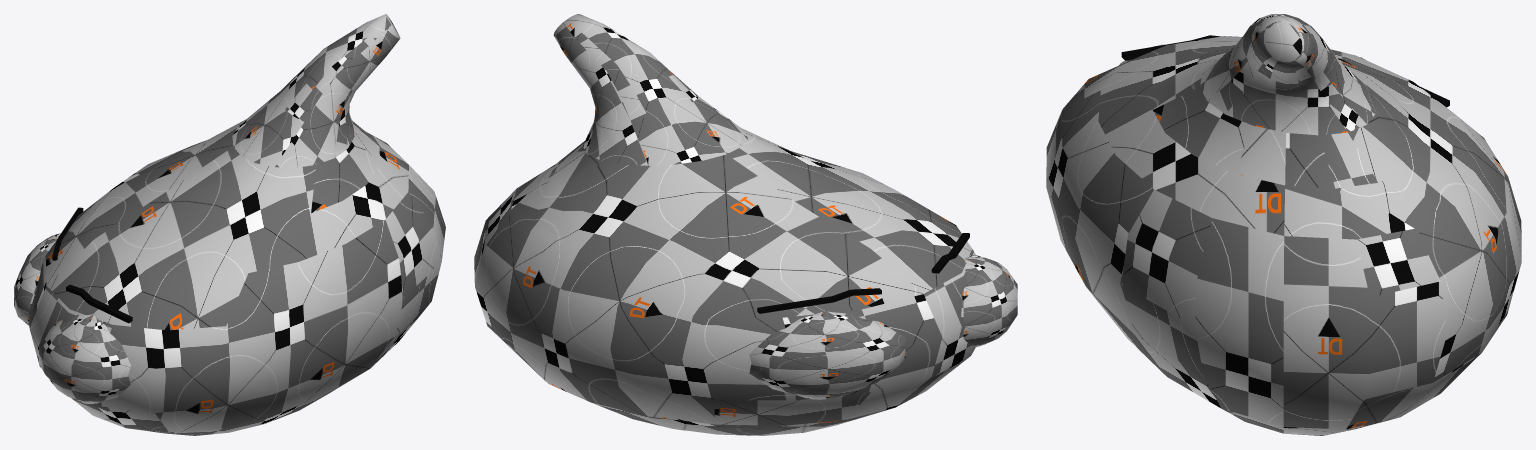
Rendered from blob_run_anim.FBX.
The picture shows the model from 3 angles, left to right: view 1: azimuth 30°, elevation 25°; view 2: azimuth 150°, elevation 25°; view 3: azimuth 270°, elevation 25°; orthographic projection. The views are drawn at different scales.
Parts seen in each view (by area): view 1: Sphere001, Sphere002, Sphere003, Box001; view 2: Sphere001, Sphere003, Sphere002, Box002; view 3: Sphere001.
Part boxes in pixels (box(x1,y1,x2,y2)): Sphere001: box(28, 14, 445, 435); Sphere002: box(39, 314, 131, 403); Sphere003: box(14, 233, 60, 325); Box001: box(66, 284, 132, 323); Sphere001: box(474, 14, 975, 435); Sphere003: box(749, 311, 905, 399); Sphere002: box(961, 255, 1017, 347); Box002: box(757, 288, 881, 313); Sphere001: box(1046, 14, 1521, 435).
Bounding box in the file's own units: 299 × 226 × 215.
3 materials, 2 textured.
